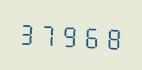eight: (102, 21, 122, 52)
nine: (60, 19, 80, 50)
seven: (39, 18, 59, 49)
six: (81, 20, 101, 51)
three: (18, 17, 38, 48)
